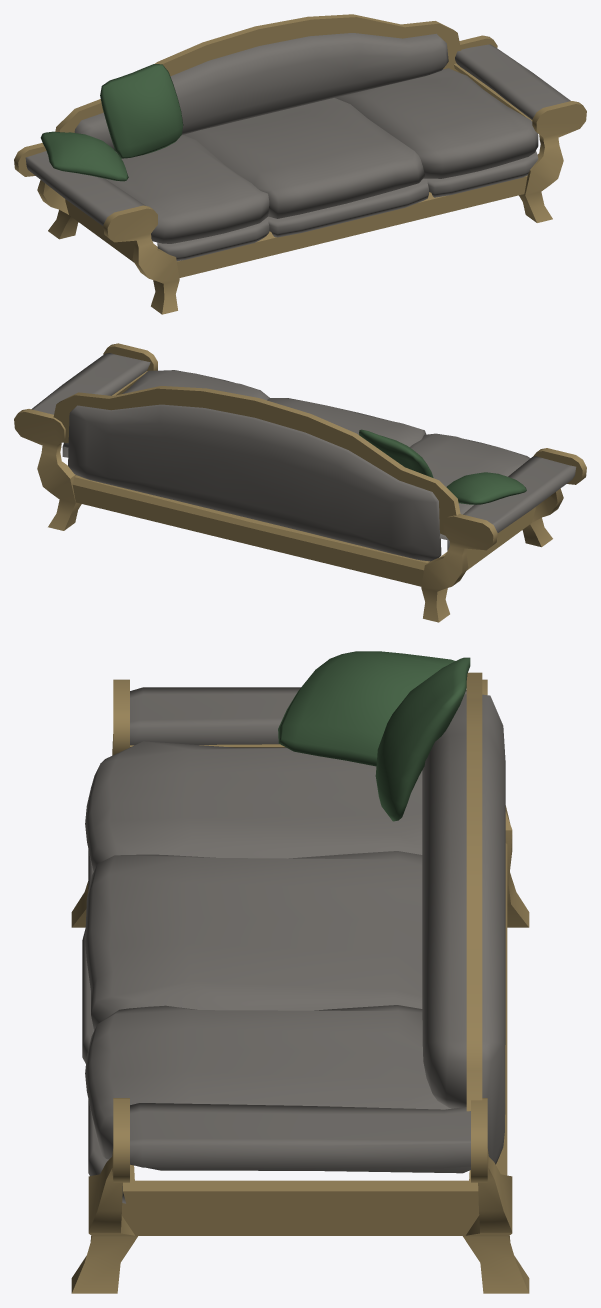
The model's file is couch3.gltf.
The picture shows the model from 3 angles, top to bottom: view 1: azimuth 30°, elevation 25°; view 2: azimuth 150°, elevation 25°; view 3: azimuth 270°, elevation 25°; orthographic projection. The views are drawn at different scales.
Visible parts, largest first — view 1: Cube.015, Cube.012, Cube.014, Cube.013, Cube.018, Cube.017, Cube.016, Cube.019, Cube.024, Cube.020, Cube.023, Cube.022 (+1 smaller); view 2: Cube.015, Cube.017, Cube.018, Cube.019, Cube.016, Cube.013, Cube.012, Cube.014, Cube.023, Cube.024; view 3: Cube.012, Cube.014, Cube.013, Cube.016, Cube.015, Cube.017, Cube.018, Cube.023, Cube.019, Cube.024, Cube.020.
Part boxes in pixels (left/top/right/bottom): Cube.015: left=74, top=33, right=448, bottom=151; Cube.012: left=182, top=98, right=424, bottom=218; Cube.014: left=335, top=68, right=538, bottom=178; Cube.013: left=105, top=135, right=269, bottom=243; Cube.018: left=14, top=35, right=586, bottom=314; Cube.017: left=65, top=63, right=532, bottom=277; Cube.016: left=25, top=44, right=570, bottom=225; Cube.019: left=55, top=14, right=461, bottom=132; Cube.024: left=100, top=64, right=183, bottom=158; Cube.020: left=267, top=178, right=428, bottom=237; Cube.023: left=40, top=131, right=128, bottom=181; Cube.022: left=427, top=151, right=538, bottom=197; Cube.015: left=68, top=404, right=441, bottom=561; Cube.017: left=72, top=371, right=535, bottom=586; Cube.018: left=14, top=343, right=586, bottom=622; Cube.019: left=53, top=386, right=460, bottom=535; Cube.016: left=31, top=353, right=576, bottom=532; Cube.013: left=409, top=433, right=530, bottom=550; Cube.012: left=267, top=398, right=426, bottom=446; Cube.014: left=62, top=370, right=269, bottom=457; Cube.023: left=446, top=472, right=526, bottom=504; Cube.024: left=359, top=429, right=433, bottom=477; Cube.012: left=85, top=851, right=422, bottom=1030; Cube.014: left=85, top=1005, right=470, bottom=1173; Cube.013: left=85, top=741, right=422, bottom=871; Cube.016: left=130, top=687, right=470, bottom=1168; Cube.015: left=422, top=694, right=505, bottom=1164; Cube.017: left=97, top=744, right=507, bottom=1235; Cube.018: left=71, top=679, right=529, bottom=1293; Cube.023: left=278, top=651, right=455, bottom=766; Cube.019: left=466, top=672, right=482, bottom=1111; Cube.024: left=375, top=657, right=470, bottom=821; Cube.020: left=82, top=928, right=93, bottom=1063.
Bounding box in the file's own units: 2.31 × 0.7608 × 0.9532.
